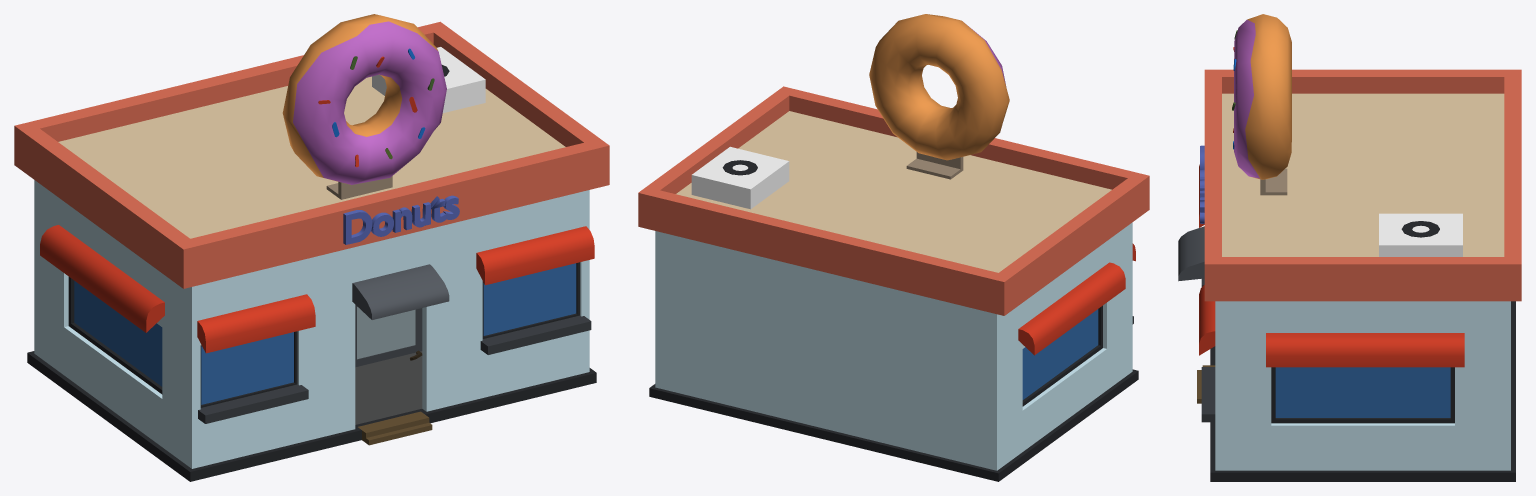
File: Donuts Place_1.fbx
3 views of the same model, side by side, from view 1: azimuth 30°, elevation 25°; view 2: azimuth 150°, elevation 25°; view 3: azimuth 270°, elevation 25° (orthographic). The views are drawn at different scales.
Visible parts, largest first — view 1: Donuts Place_1; view 2: Donuts Place_1; view 3: Donuts Place_1.
Boxes of the visible parts, <box> form: Donuts Place_1: <box>14,14,609,481</box>; Donuts Place_1: <box>638,14,1149,481</box>; Donuts Place_1: <box>1178,14,1521,481</box>.
Size of the model in its own units: 980 by 839 by 711.
